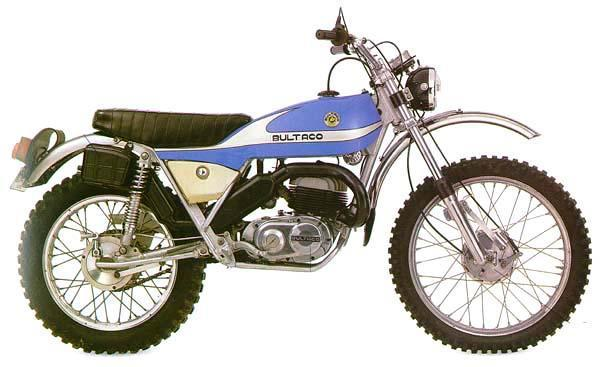motorcycle: (8, 3, 600, 367)
